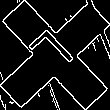L_SE: (27, 26, 83, 84)
